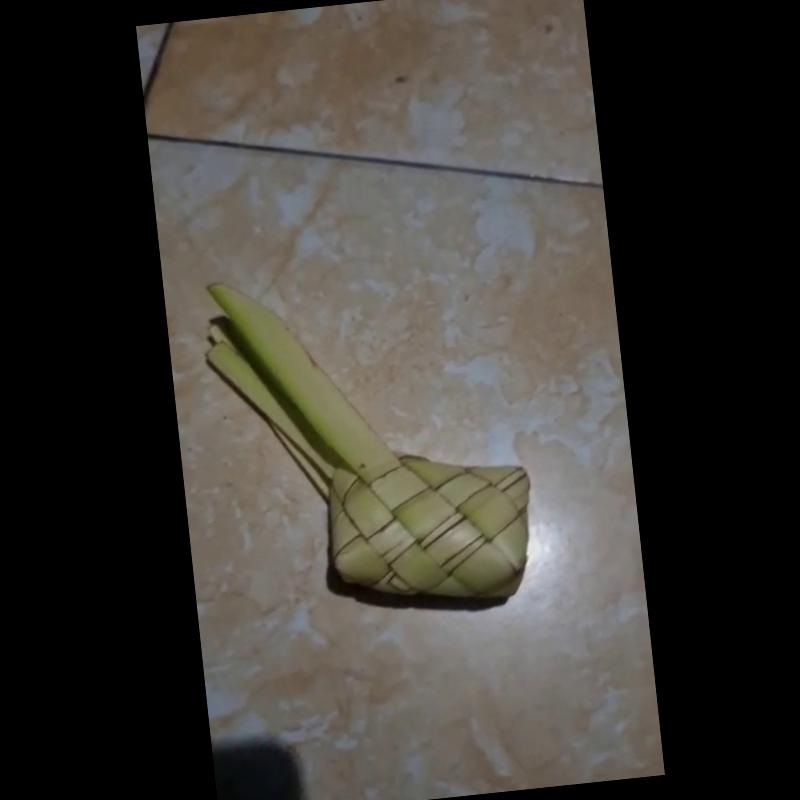Tipat Bantal: (201, 279, 532, 611)
